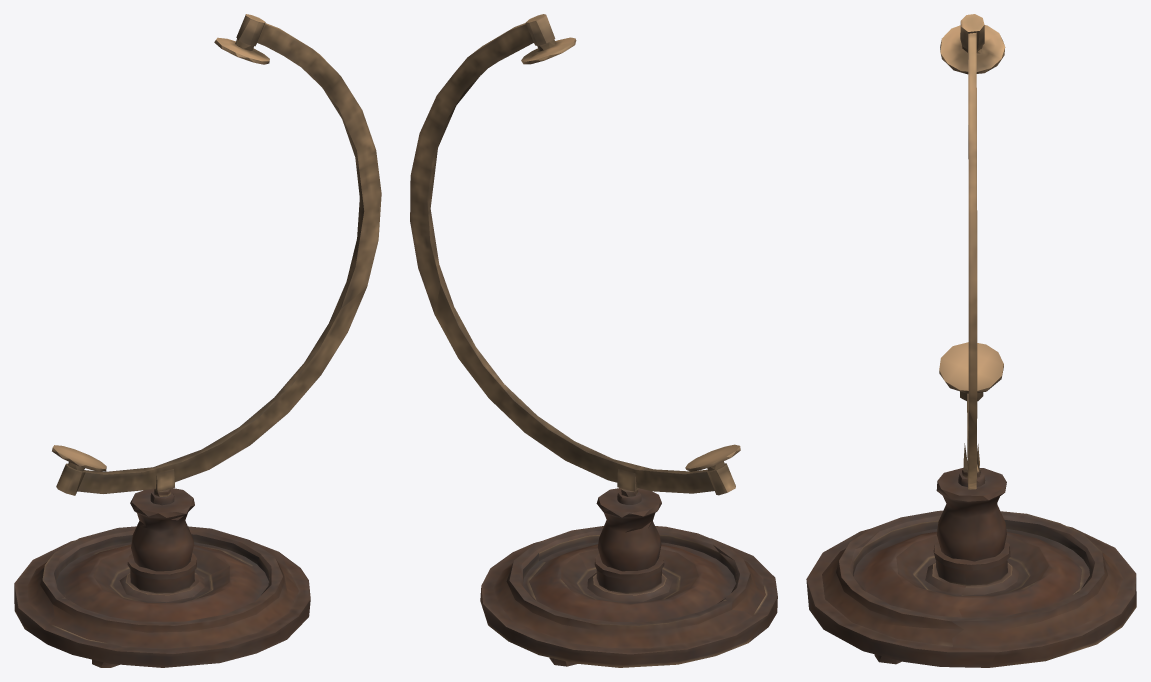
Rendered from globe-desk.lod1.glb.
3 views of the same model, side by side, from view 1: azimuth 30°, elevation 25°; view 2: azimuth 150°, elevation 25°; view 3: azimuth 270°, elevation 25° (orthographic). The views are drawn at different scales.
Parts seen in each view (by area): view 1: globe-desk; view 2: globe-desk; view 3: globe-desk.
Part boxes in pixels (bbox=[...]): globe-desk: bbox=[14, 14, 381, 667]; globe-desk: bbox=[410, 14, 777, 667]; globe-desk: bbox=[806, 14, 1136, 667].
Bounding box in the file's own units: 0.2632 × 0.4179 × 0.1958.
Materials: 1 (1 with a texture image).
